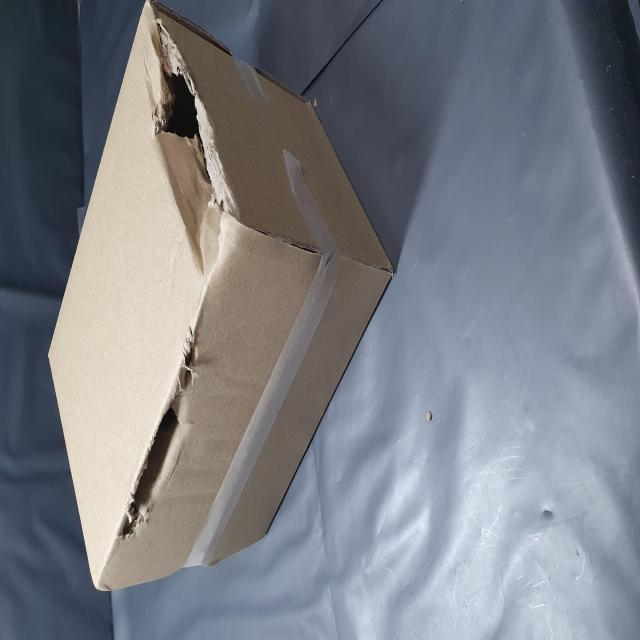damaged: (56, 209, 172, 367), (264, 262, 327, 380)
